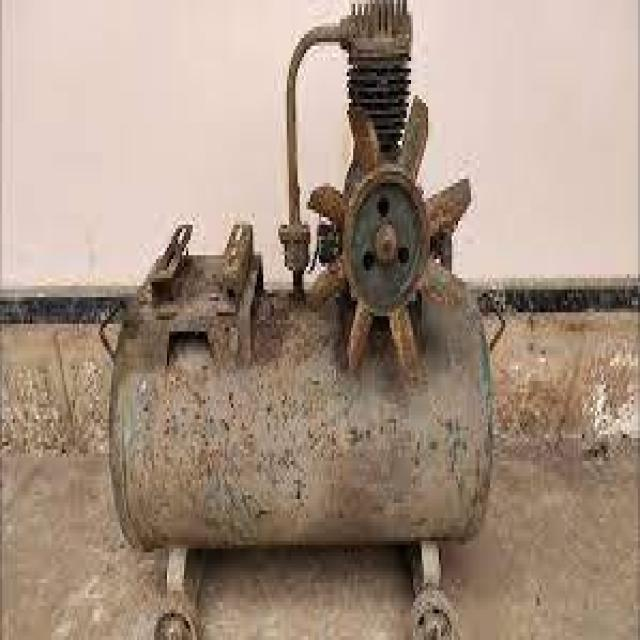compressor: (99, 0, 496, 636)
